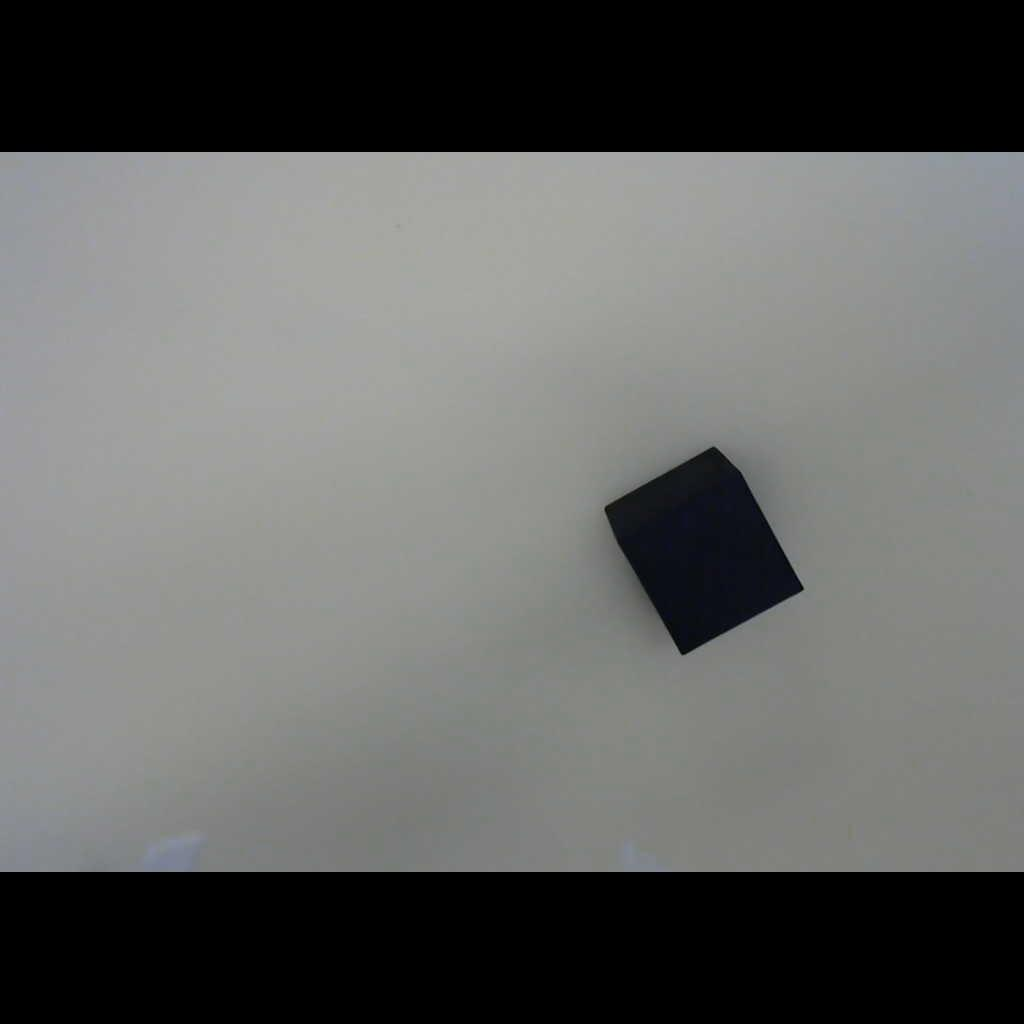square: (574, 414, 829, 683)
